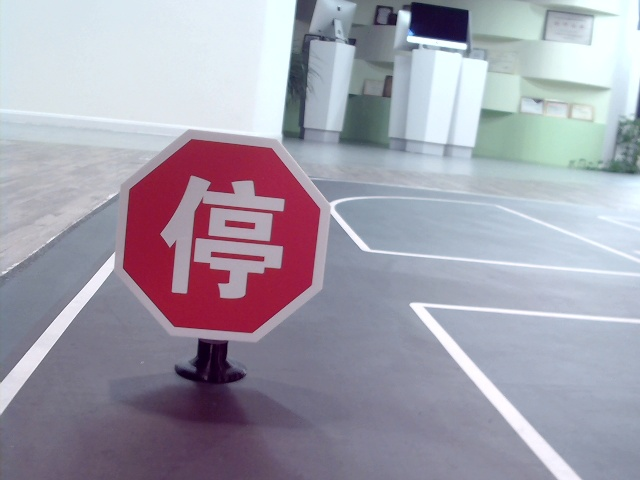stop: (156, 168, 282, 299)
